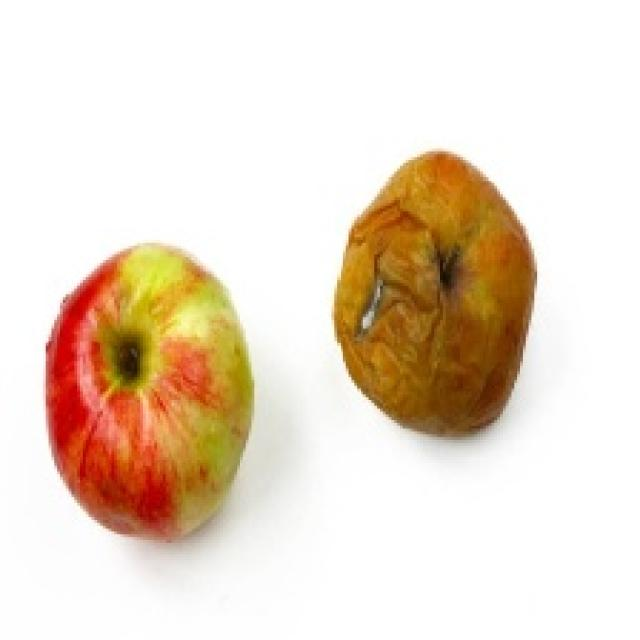rotten_apple: (338, 156, 526, 426)
